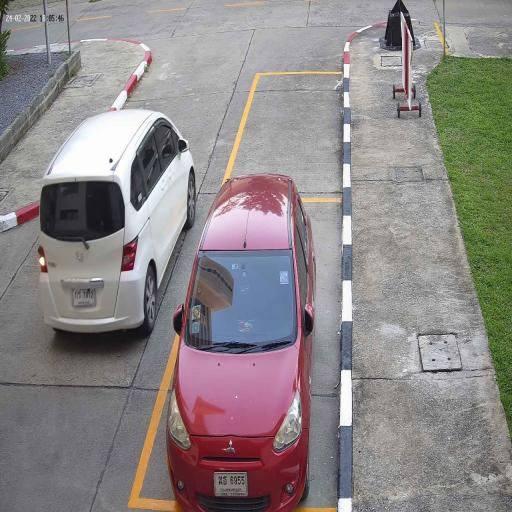car: (167, 175, 315, 511), (38, 109, 196, 336)
